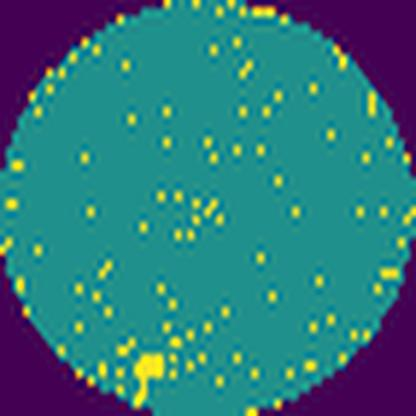Loc: (132, 350, 166, 405)
